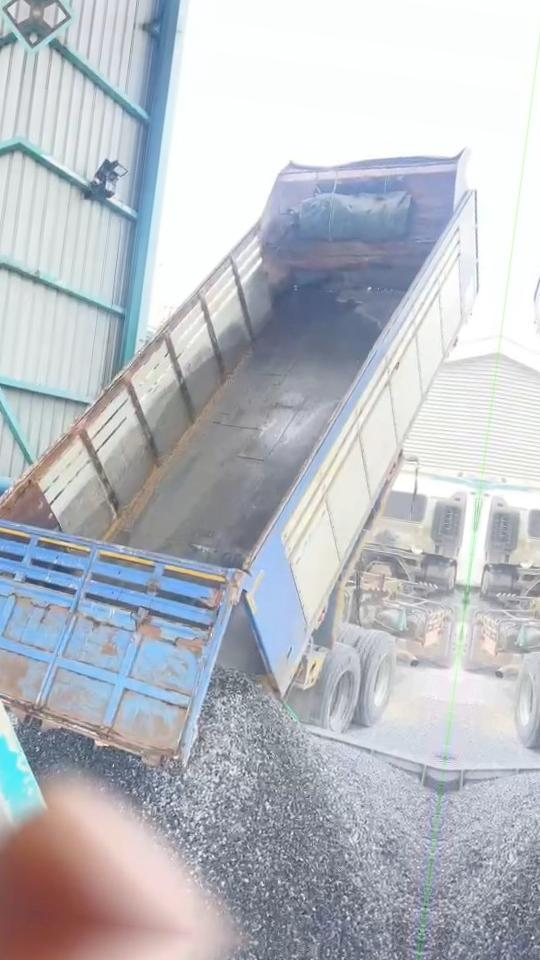gravel: (19, 671, 436, 960)
